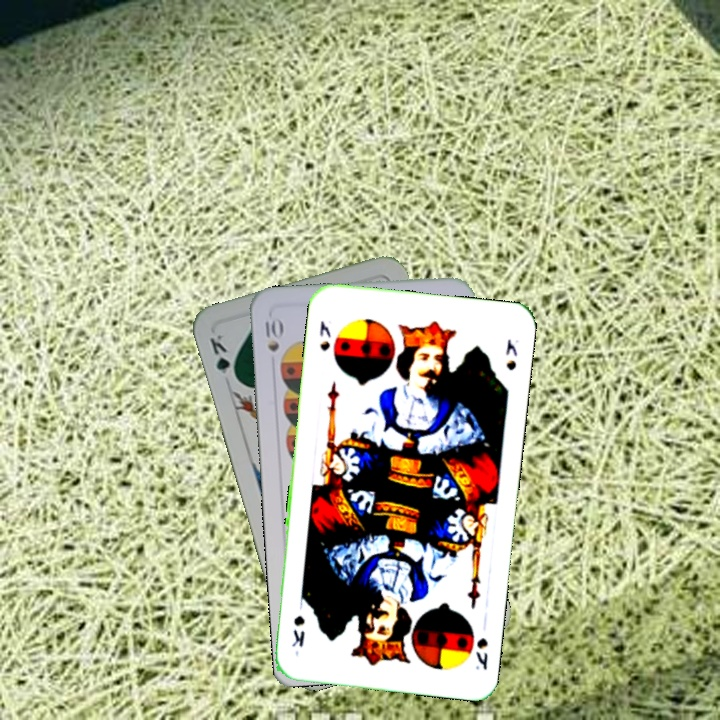GK: (205, 330, 240, 388)
S10: (260, 313, 285, 354)
SK: (471, 634, 491, 673), (315, 317, 333, 354)
